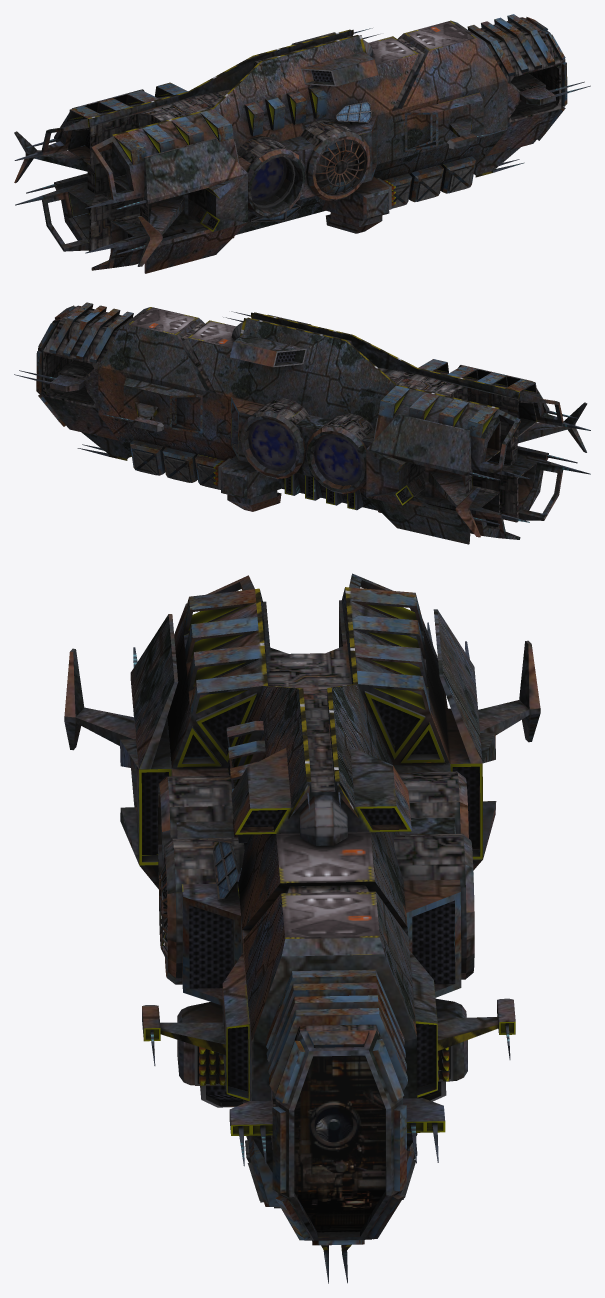
File: Anna-V-fix.obj
The picture shows the model from 3 angles, top to bottom: view 1: azimuth 30°, elevation 25°; view 2: azimuth 150°, elevation 25°; view 3: azimuth 270°, elevation 25°; orthographic projection. The views are drawn at different scales.
Parts seen in each view (by area): view 1: objship_hull; view 2: objship_hull; view 3: objship_hull.
Part boxes in pixels (<box>): objship_hull: <box>14,14,590,273</box>; objship_hull: <box>14,302,590,544</box>; objship_hull: <box>64,573,540,1283</box>.
Size of the model in its own units: 133 by 42.1 by 53.13.
1 material, 1 textured.
